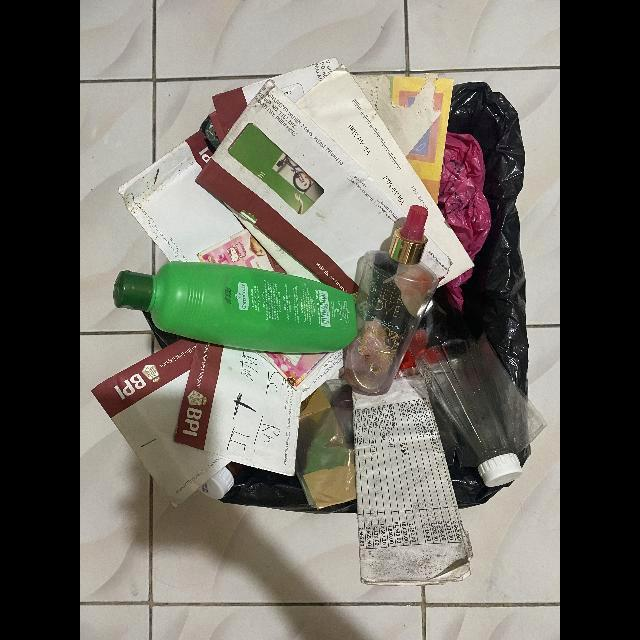glass_bottle: (410, 286, 523, 488)
paper: (196, 79, 407, 295), (295, 71, 475, 288), (352, 374, 473, 587), (93, 338, 232, 508), (119, 130, 275, 271), (170, 342, 301, 478), (353, 74, 454, 205), (261, 350, 345, 406)
plastic_bag: (437, 131, 492, 262)
plastic_bottle: (113, 261, 358, 354), (343, 205, 439, 397)
